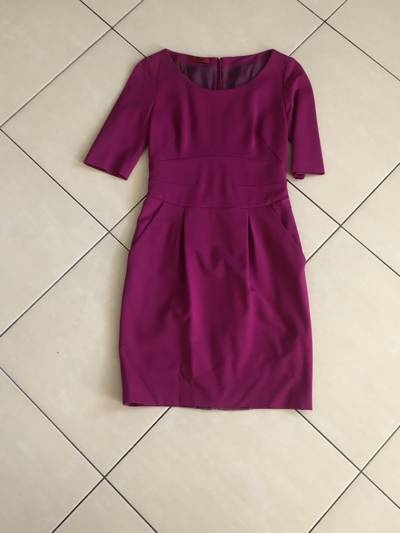Dress: (88, 24, 345, 432)
